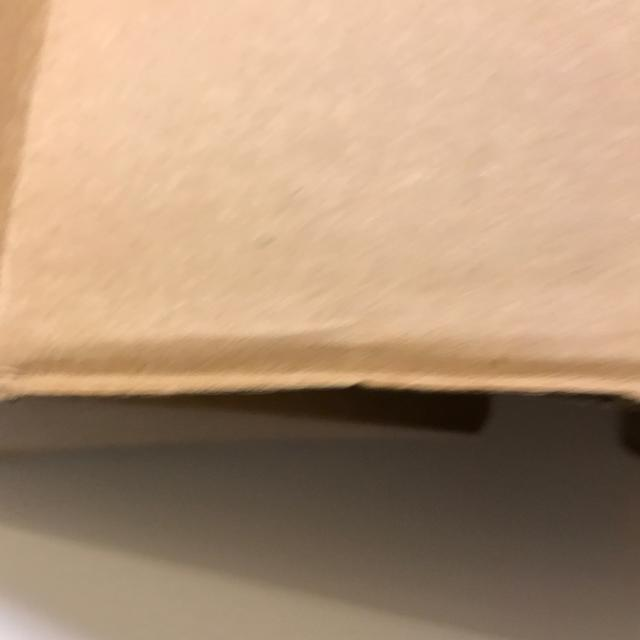cardboard: (0, 4, 640, 505)
